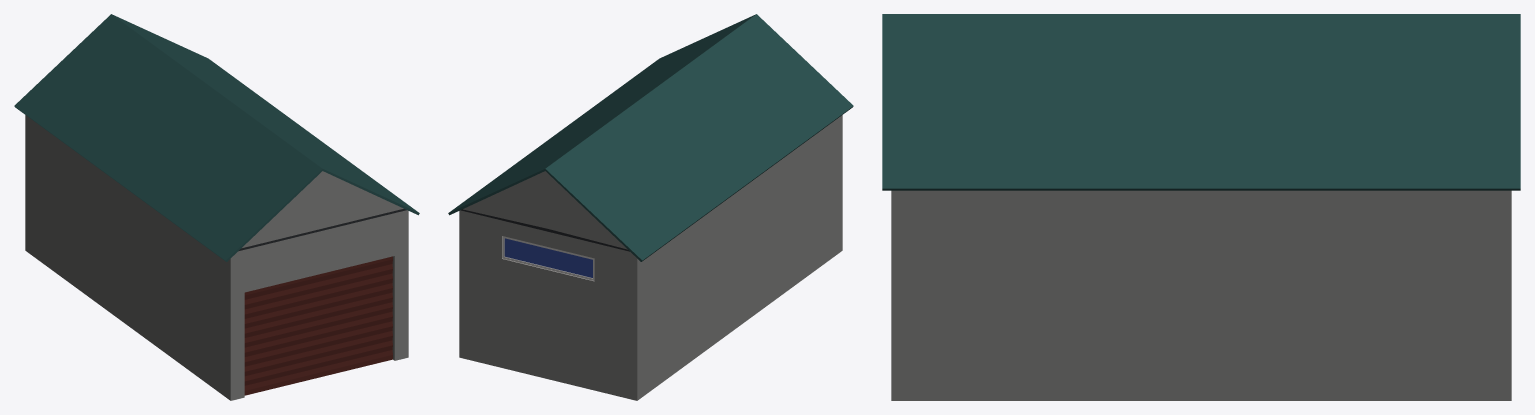
Rendered from Warehouse_1.fbx.
The picture shows the model from 3 angles, left to right: view 1: azimuth 30°, elevation 25°; view 2: azimuth 150°, elevation 25°; view 3: azimuth 270°, elevation 25°; orthographic projection. The views are drawn at different scales.
Visible parts, largest first — view 1: Warehouse_1; view 2: Warehouse_1; view 3: Warehouse_1.
Part boxes in pixels (bbox=[...]): Warehouse_1: bbox=[14, 14, 419, 400]; Warehouse_1: bbox=[448, 14, 853, 400]; Warehouse_1: bbox=[882, 14, 1520, 400].
Size of the model in its own units: 719 by 752 by 1354.
